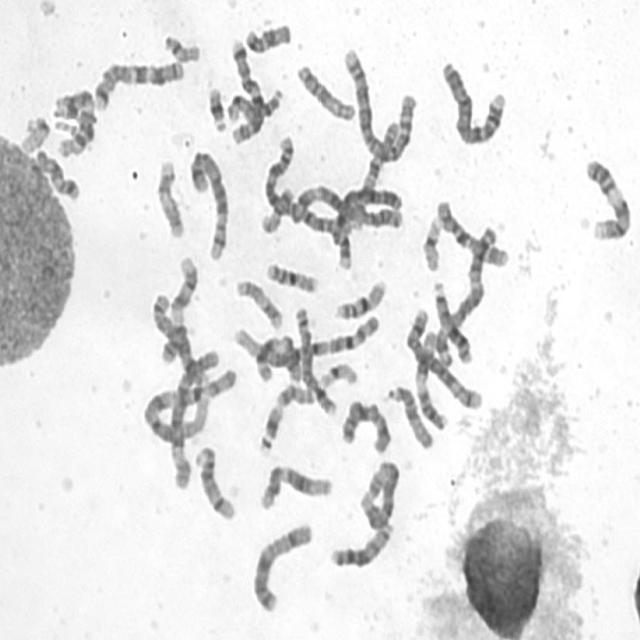A1: (236, 309, 382, 377), (140, 361, 238, 444)
A2: (261, 132, 356, 238), (338, 42, 416, 165)
A3: (431, 221, 499, 368), (289, 184, 406, 234)
B4: (437, 55, 508, 147), (337, 186, 402, 271)
B5: (402, 306, 483, 412), (186, 145, 231, 263)
C10: (349, 114, 401, 235), (432, 194, 511, 270)
C11: (410, 325, 452, 431), (255, 336, 302, 386)
C12: (255, 459, 335, 512), (50, 84, 97, 159)
C6: (163, 344, 219, 492), (356, 455, 402, 533)
C7: (89, 54, 187, 112), (226, 34, 266, 146)
C8: (149, 292, 211, 389), (292, 303, 339, 417)
C9: (158, 253, 200, 365), (581, 154, 632, 242)
D13: (428, 276, 474, 366), (326, 518, 396, 570)
D14: (190, 440, 237, 522), (223, 84, 285, 125)
D15: (293, 59, 357, 122), (384, 380, 435, 452)
E16: (331, 274, 388, 321), (262, 258, 320, 294)
E17: (232, 275, 285, 331), (153, 154, 186, 239)
E18: (31, 144, 82, 202), (241, 18, 293, 55)
F19: (419, 211, 444, 273), (316, 359, 359, 391)
F20: (257, 182, 296, 234), (273, 382, 316, 412)
G21: (256, 400, 284, 456), (205, 82, 228, 134)
G22: (160, 31, 202, 65), (20, 116, 52, 158)
X: (247, 518, 314, 616), (336, 394, 394, 456)
